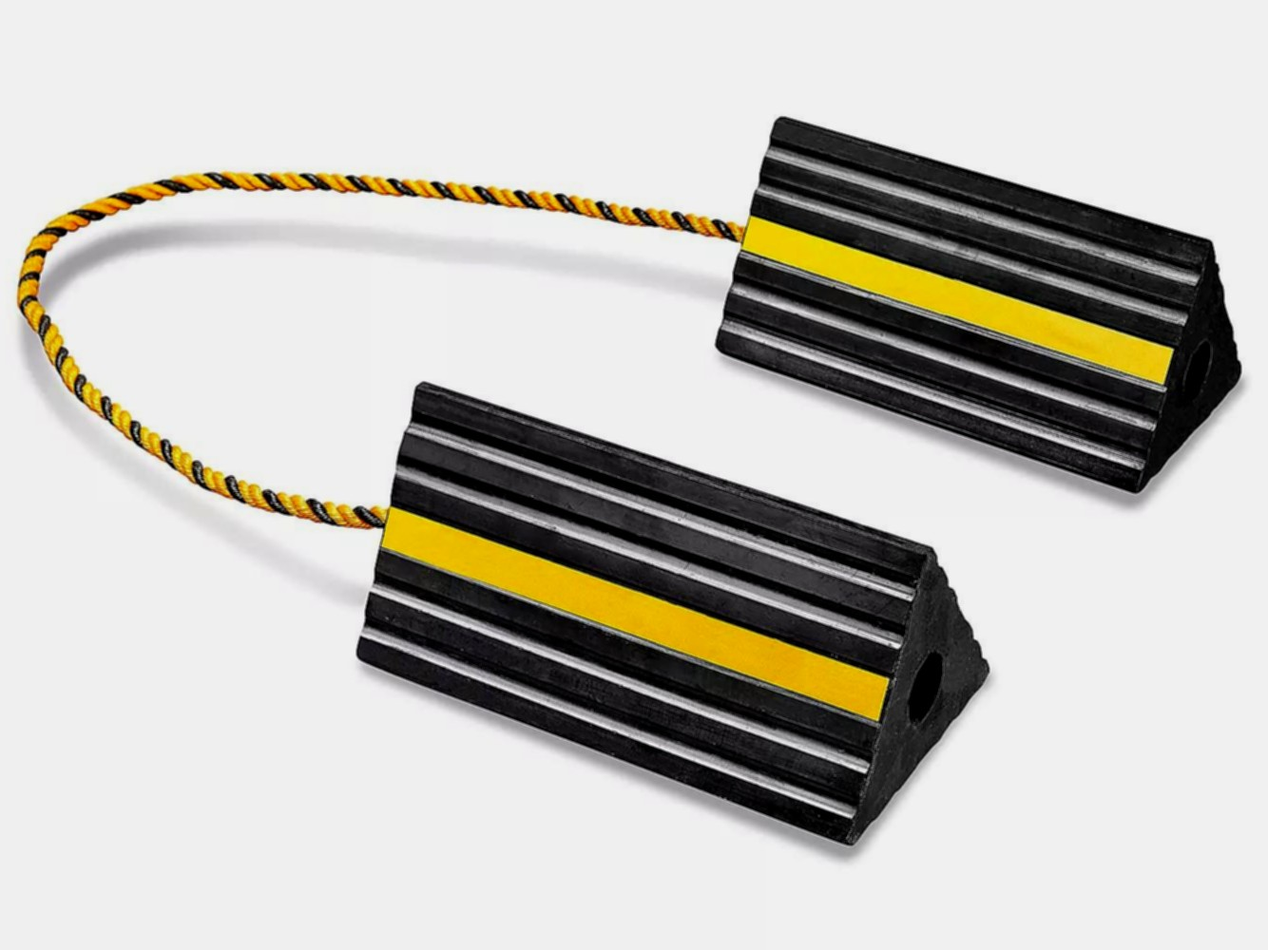chock: (354, 379, 996, 852), (711, 114, 1244, 499)
